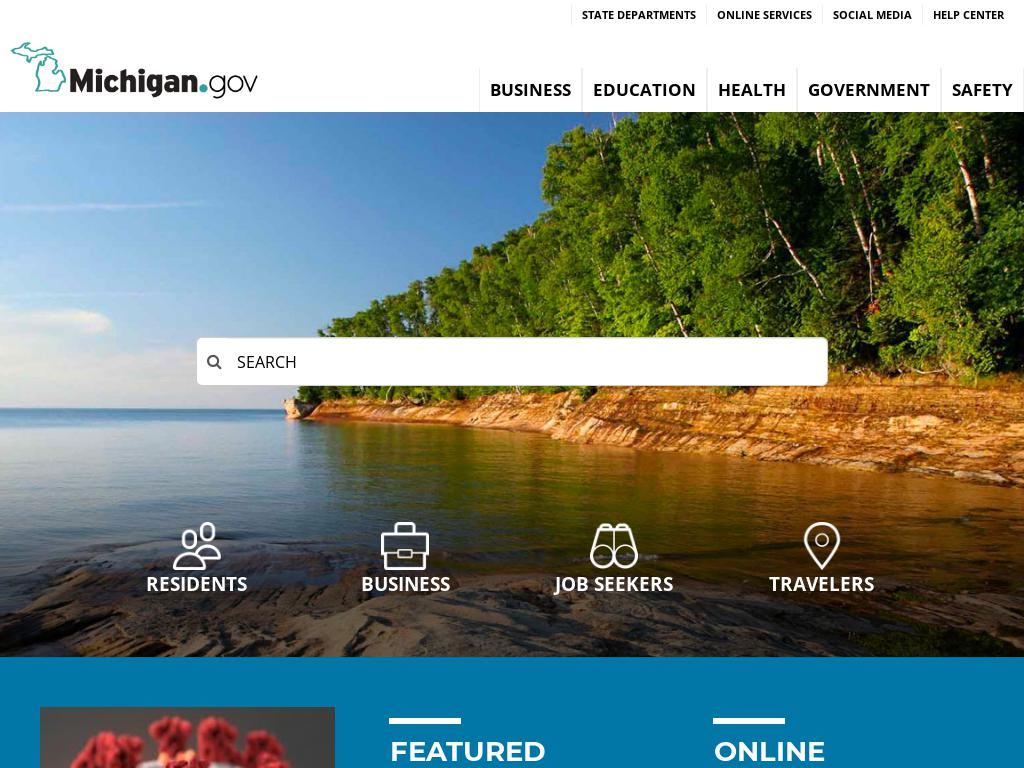button: (98, 502, 296, 618), (723, 502, 921, 618), (307, 502, 504, 618), (515, 502, 712, 618), (10, 40, 330, 102), (798, 68, 940, 112), (583, 68, 706, 112), (480, 68, 581, 112), (708, 68, 796, 112), (942, 68, 1023, 112)
field: (226, 337, 828, 386)
heading: (714, 731, 959, 768), (389, 731, 635, 766)
image: (10, 40, 260, 102), (172, 522, 222, 571), (797, 522, 847, 571), (381, 522, 430, 571), (589, 522, 638, 571)
label: (225, 336, 243, 385)
link: (582, 7, 696, 22), (717, 7, 812, 22), (833, 7, 912, 22), (933, 7, 1004, 22)
text: (554, 571, 673, 597), (769, 571, 875, 597), (146, 571, 248, 597), (360, 571, 450, 597)
